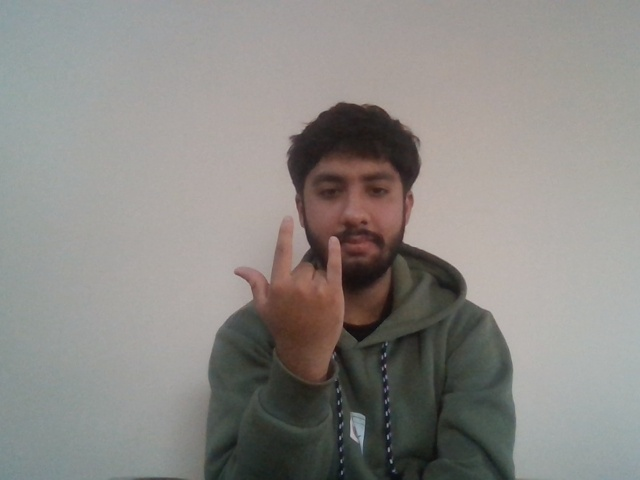IloveYou: (228, 211, 357, 349)
